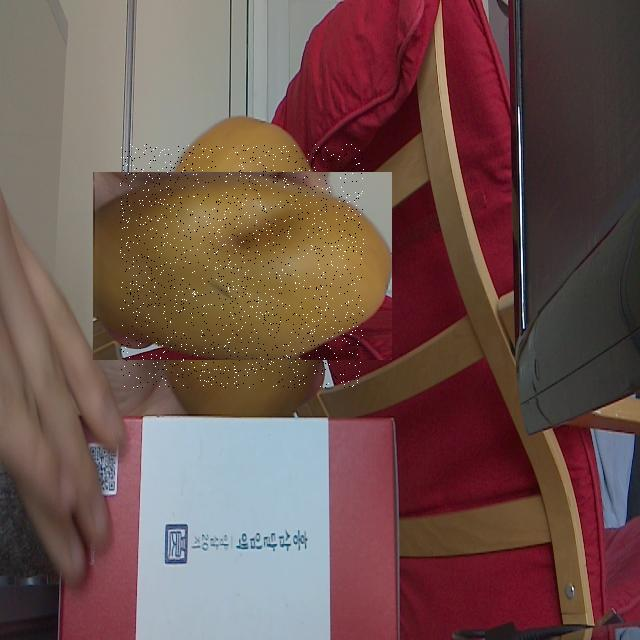pear: (120, 144, 364, 388)
